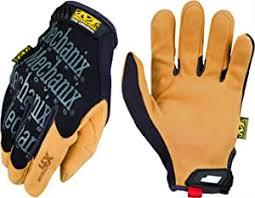gloves: (121, 1, 255, 196), (1, 1, 119, 198)
